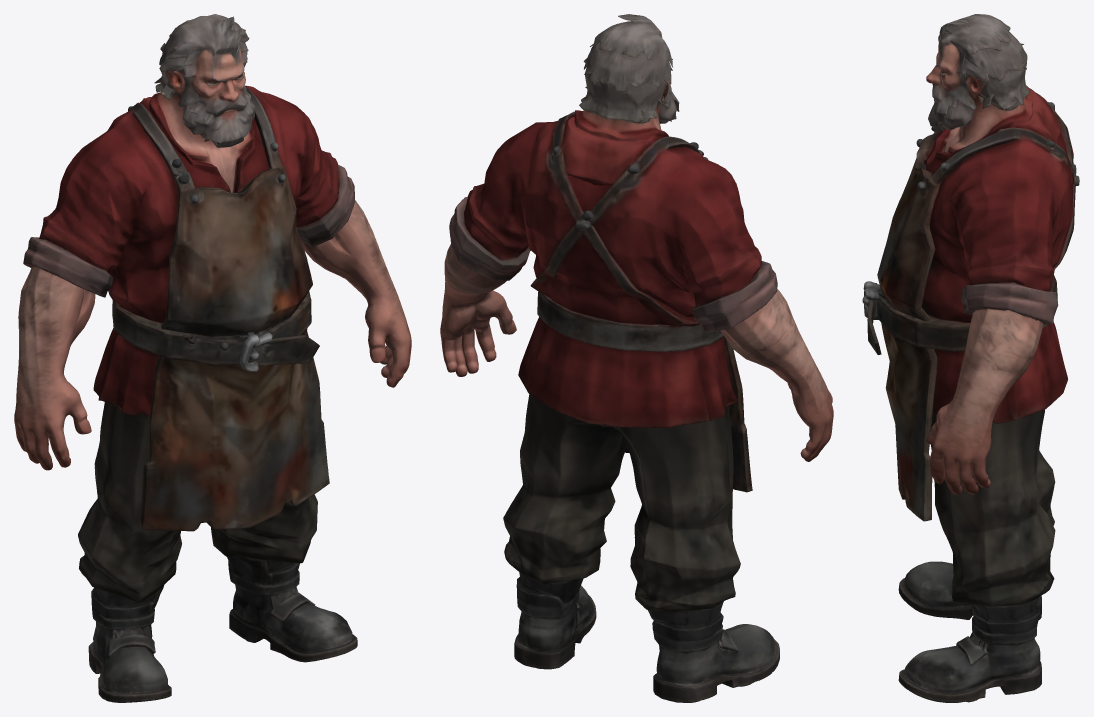
The model's file is smith.glb.
3 renders of one model, left to right at view 1: azimuth 30°, elevation 25°; view 2: azimuth 150°, elevation 25°; view 3: azimuth 270°, elevation 25°, orthographic.
Visible parts, largest first — view 1: world; view 2: world; view 3: world.
Boxes of the visible parts, <box> form: world: <box>14,14,411,702</box>; world: <box>440,14,833,702</box>; world: <box>862,14,1079,702</box>.
Size of the model in its own units: 0.6273 by 0.995 by 0.3102.
1 material, 1 textured.
